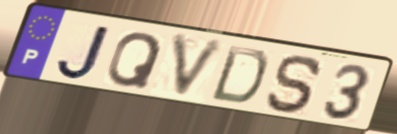3: (321, 63, 374, 123)
D: (207, 43, 271, 107)
J: (54, 23, 114, 82)
Q: (105, 31, 166, 91)
S: (263, 53, 326, 116)
V: (169, 32, 230, 103)
